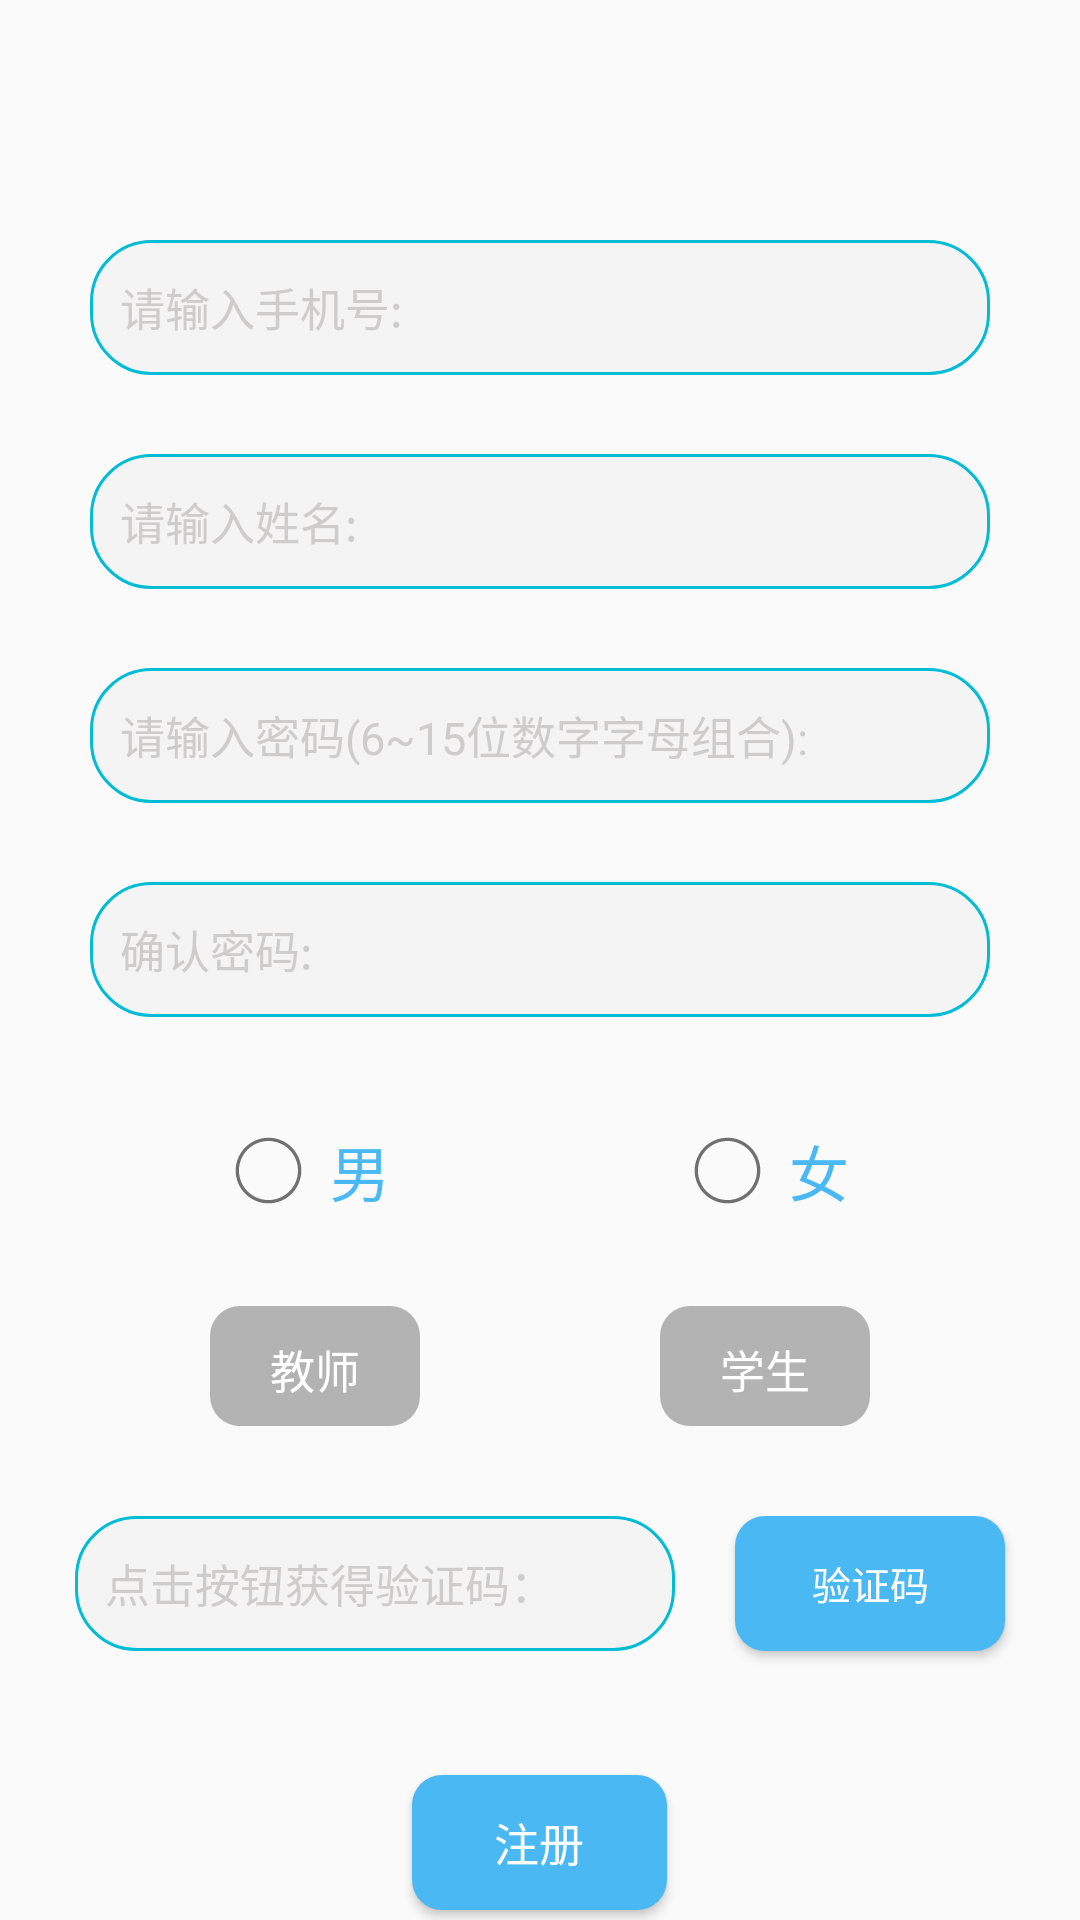

Icon click points for this 1080 x 1920 phone screenshot, format point (x, y):
select radio bt: point (268, 1170), point (727, 1170)
